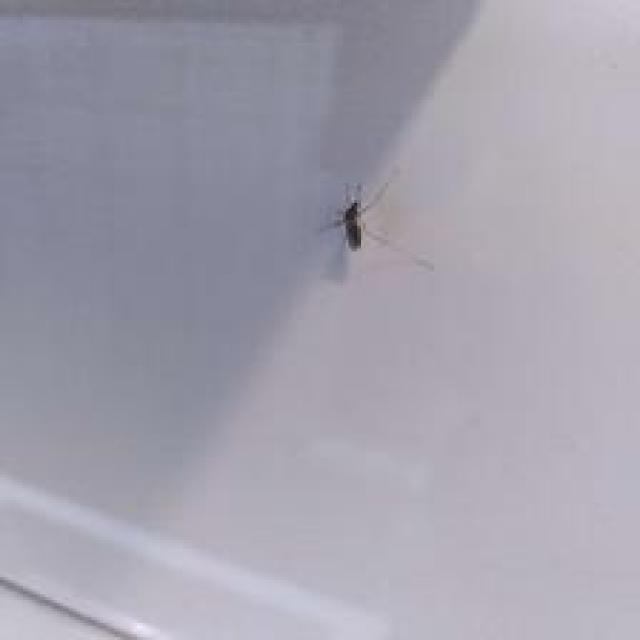Culex: (317, 166, 434, 274)
